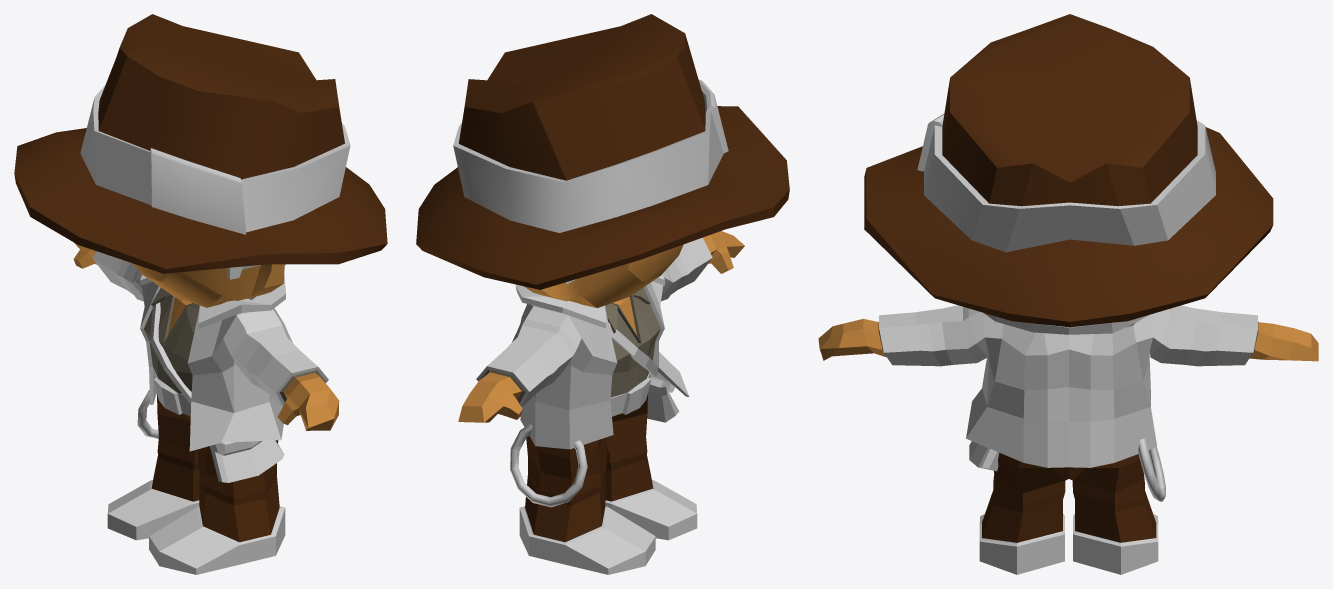
File: indiana-temp.fbx
3 views of the same model, side by side, from view 1: azimuth 30°, elevation 25°; view 2: azimuth 150°, elevation 25°; view 3: azimuth 270°, elevation 25° (orthographic).
Parts seen in each view (by area): view 1: Box001; view 2: Box001; view 3: Box001.
Part boxes in pixels (x1,y1,x2,y2): Box001: (14,14,387,574); Box001: (416,14,789,574); Box001: (818,14,1318,574).
Bounding box in the file's own units: 85.09 × 118 × 108.
